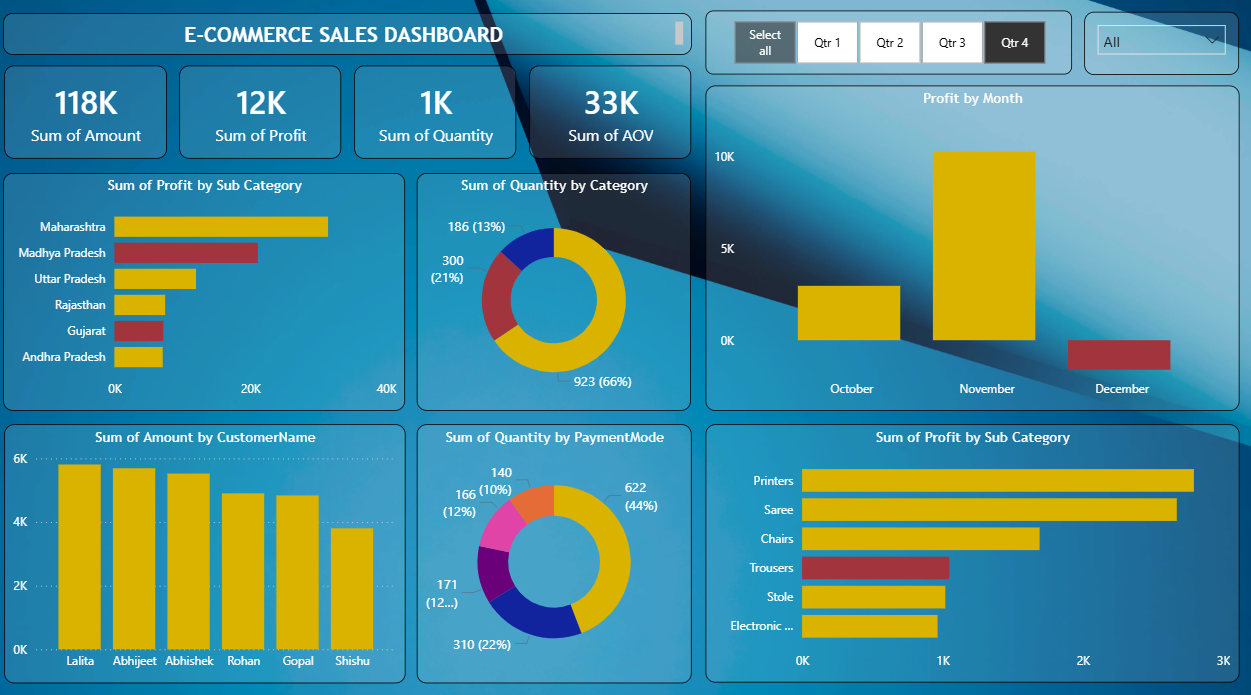

The dashboard page shown, as its layout file describes it:
{"tool":"powerbi","page":{"name":"Page 1","canvas":[1280,720],"ordinal":0},"visuals":[{"type":"textbox","box":[10.5,20,697.9,42.1],"z":0},{"type":"columnChart","title":"Profit by Month","fields":{"Category":["Orders.Order Date.Variation.Date Hierarchy.Year","Orders.Order Date.Variation.Date Hierarchy.Quarter","Orders.Order Date.Variation.Date Hierarchy.Month","Orders.Order Date.Variation.Date Hierarchy.Day"],"Y":["Sum(Details.Profit)"]},"box":[721.5,94.1,540.5,329.4],"z":1000},{"type":"barChart","title":"Sum of Profit by Sub Category","fields":{"Category":["Details.Sub-Category"],"Y":["Sum(Details.Profit)"]},"box":[721.5,436.7,540.5,261.8],"z":2000},{"type":"donutChart","fields":{"Y":["Sum(Details.Quantity)"],"Category":["Details.PaymentMode"]},"box":[429.5,436.4,278.6,262.1],"z":3000},{"type":"donutChart","fields":{"Y":["Sum(Details.Quantity)"],"Category":["Details.Category"]},"box":[429.5,182.1,277.9,241.1],"z":4000},{"type":"cardVisual","fields":{"Data":["Sum(Details.Amount)"]},"box":[11,73.1,164.7,94.7],"z":5000},{"type":"cardVisual","fields":{"Data":["Sum(Details.Profit)"]},"box":[188.2,73.5,164.1,94.1],"z":6000},{"type":"cardVisual","fields":{"Data":["Sum(Details.Quantity)"]},"box":[365.6,73.5,164.1,94.1],"z":7000},{"type":"cardVisual","fields":{"Data":["Sum(Details.AOV)"]},"box":[542.9,73.5,164.1,94.1],"z":8000},{"type":"barChart","title":"Sum of Profit by Sub Category","fields":{"Category":["Orders.State"],"Y":["Sum(Details.Amount)"]},"box":[10.5,182.1,407.4,241.1],"z":9000},{"type":"columnChart","fields":{"Category":["Orders.CustomerName"],"Y":["Sum(Details.Amount)"]},"box":[11,436.4,406.2,262.1],"z":10000},{"type":"slicer","fields":{"Values":["Orders.Order Date.Variation.Date Hierarchy.Quarter"]},"box":[721.5,18.1,371.6,65.1],"z":11000},{"type":"slicer","fields":{"Values":["Orders.State"]},"box":[1105.1,19.3,156.8,63.9],"z":12000}]}

Visuals, with their boxes in screenshot pixels (x1, y1, x2, y2), scaled from the page's 1280x720 canvas onto the 1251x695 screenshot:
textbox: left=10, top=19, right=692, bottom=60
"Profit by Month" columnChart: left=705, top=91, right=1233, bottom=409
"Sum of Profit by Sub Category" barChart: left=705, top=422, right=1233, bottom=674
donutChart - Sum(Details.Quantity) x Details.PaymentMode: left=420, top=421, right=692, bottom=674
donutChart - Sum(Details.Quantity) x Details.Category: left=420, top=176, right=691, bottom=409
cardVisual - Sum(Details.Amount): left=11, top=71, right=172, bottom=162
cardVisual - Sum(Details.Profit): left=184, top=71, right=344, bottom=162
cardVisual - Sum(Details.Quantity): left=357, top=71, right=518, bottom=162
cardVisual - Sum(Details.AOV): left=531, top=71, right=691, bottom=162
"Sum of Profit by Sub Category" barChart: left=10, top=176, right=408, bottom=409
columnChart - Orders.CustomerName x Sum(Details.Amount): left=11, top=421, right=408, bottom=674
slicer - Orders.Order Date.Variation.Date Hierarchy.Quarter: left=705, top=17, right=1068, bottom=80
slicer - Orders.State: left=1080, top=19, right=1233, bottom=80
